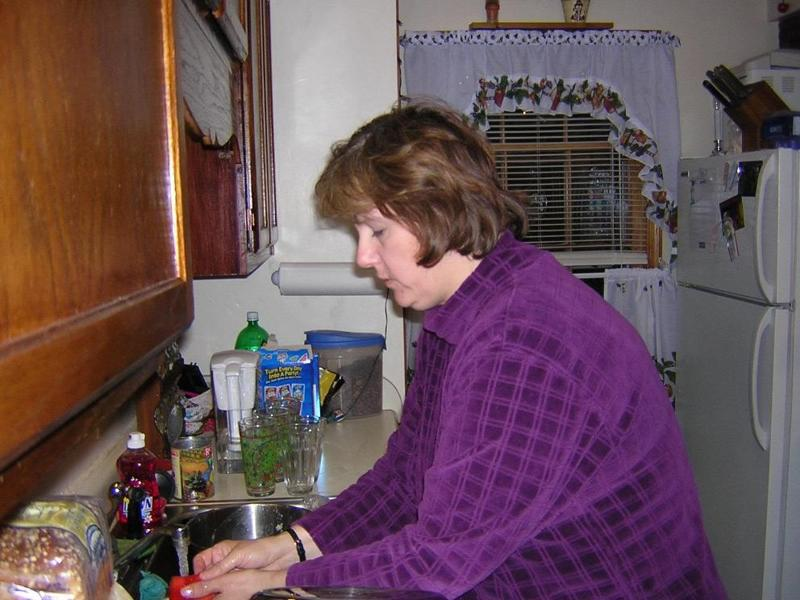person: (177, 99, 733, 599)
